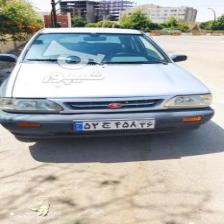plate: (72, 120, 158, 129)
